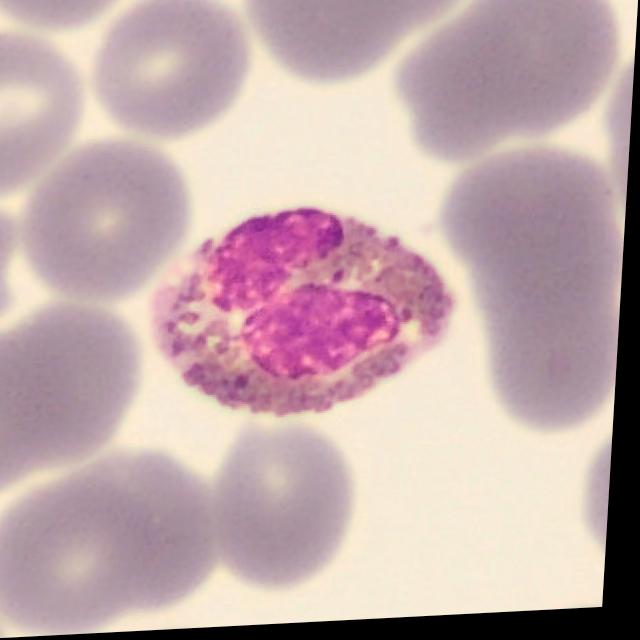Eosinofilo: (151, 209, 459, 419)
